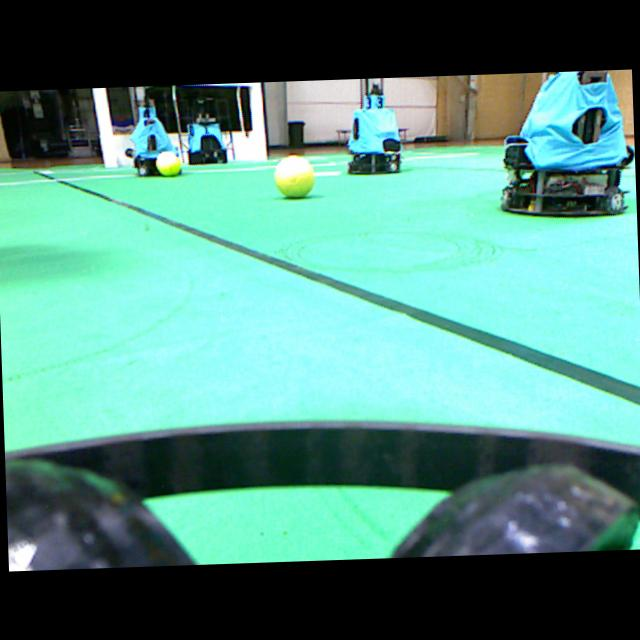ball: (274, 155, 313, 197), (155, 151, 180, 175)
goal: (92, 87, 116, 166), (249, 82, 265, 159)
